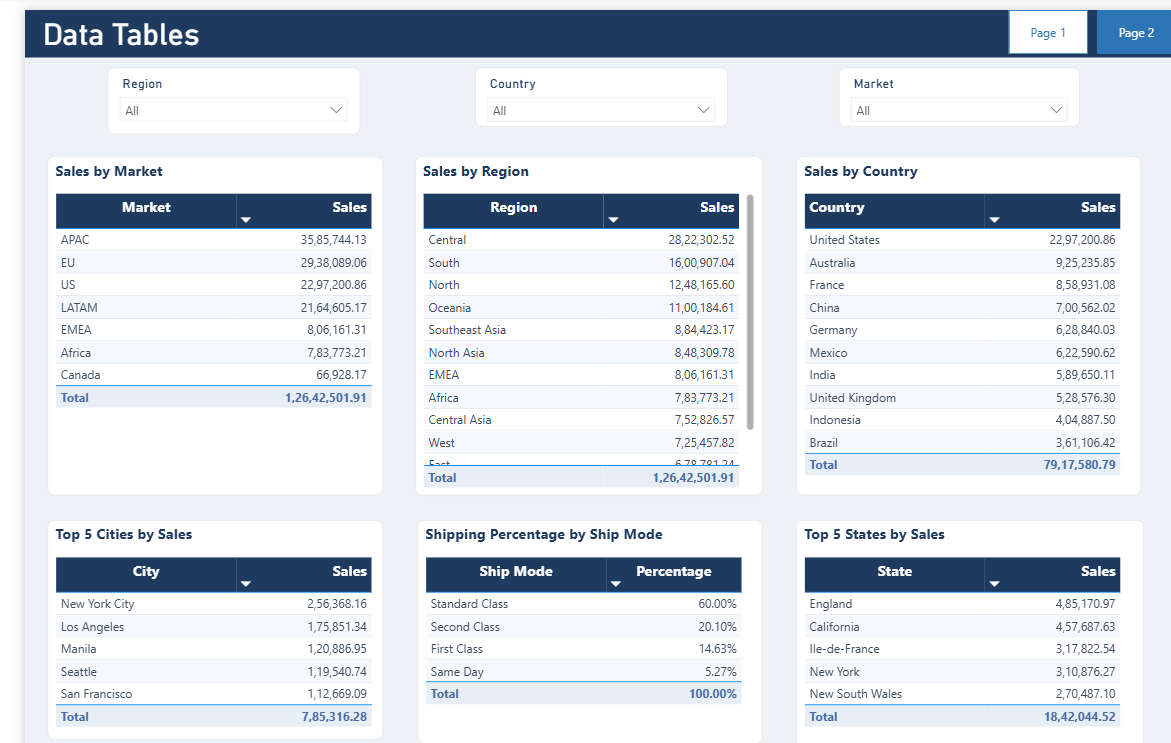

The dashboard page shown, as its layout file describes it:
{"tool":"powerbi","page":{"name":"Page 2","canvas":[1280,900],"ordinal":1},"visuals":[{"type":"tableEx","title":"Sales by Market","fields":{"Values":["Orders.Market","Sum(Orders.Sales)"]},"box":[25.6,162.9,372.5,377],"z":0},{"type":"tableEx","title":"Top 5 Cities by Sales","fields":{"Values":["Orders.City","Sum(Orders.Sales)"]},"box":[25.6,567,372.5,244.3],"z":1000},{"type":"tableEx","title":"Top 5 States by Sales","fields":{"Values":["Orders.State","Sum(Orders.Sales)"]},"box":[856.6,567,386.1,257.9],"z":2000},{"type":"tableEx","title":" Sales by Region","fields":{"Values":["Orders.Region","Sum(Orders.Sales)"]},"box":[432.8,162.9,386.1,377],"z":3000},{"type":"tableEx","title":"Sales by Country ","fields":{"Values":["Orders.Country","Sum(Orders.Sales)"]},"box":[856.6,162.9,383,377],"z":4000},{"type":"tableEx","title":"Shipping Percentage by Ship Mode","fields":{"Values":["Orders.Ship Mode","CountNonNull(Orders.Row ID)"]},"box":[435.8,567,383,248.8],"z":5000},{"type":"slicer","fields":{"Values":["Orders.Market"]},"box":[903.7,63.4,268.3,65.9],"z":6000},{"type":"slicer","fields":{"Values":["Orders.Country"]},"box":[500,63.4,280.5,65.9],"z":7000},{"type":"slicer","fields":{"Values":["Orders.Region"]},"box":[91.5,63.4,280.5,74.4],"z":8000},{"type":"textbox","title":"Data Tables","box":[0,0,1280.5,52.4],"z":9000},{"type":"pageNavigator","box":[1093.3,0,187,49.8],"z":10000}]}

Visuals, with their boxes on the page's 1280x900 design canvas (x1, y1, x2, y2). These are canvas units, not pixel positions in the 1171x743 screenshot, which may show the page scaled, cropped or inside an application window:
"Sales by Market" tableEx: region(26, 163, 398, 540)
"Top 5 Cities by Sales" tableEx: region(26, 567, 398, 811)
"Top 5 States by Sales" tableEx: region(857, 567, 1243, 825)
" Sales by Region" tableEx: region(433, 163, 819, 540)
"Sales by Country " tableEx: region(857, 163, 1240, 540)
"Shipping Percentage by Ship Mode" tableEx: region(436, 567, 819, 816)
slicer - Orders.Market: region(904, 63, 1172, 129)
slicer - Orders.Country: region(500, 63, 780, 129)
slicer - Orders.Region: region(92, 63, 372, 138)
"Data Tables" textbox: region(0, 0, 1280, 52)
pageNavigator: region(1093, 0, 1280, 50)
